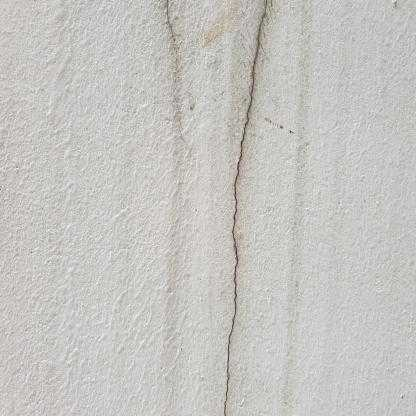crack: (224, 0, 268, 416)
